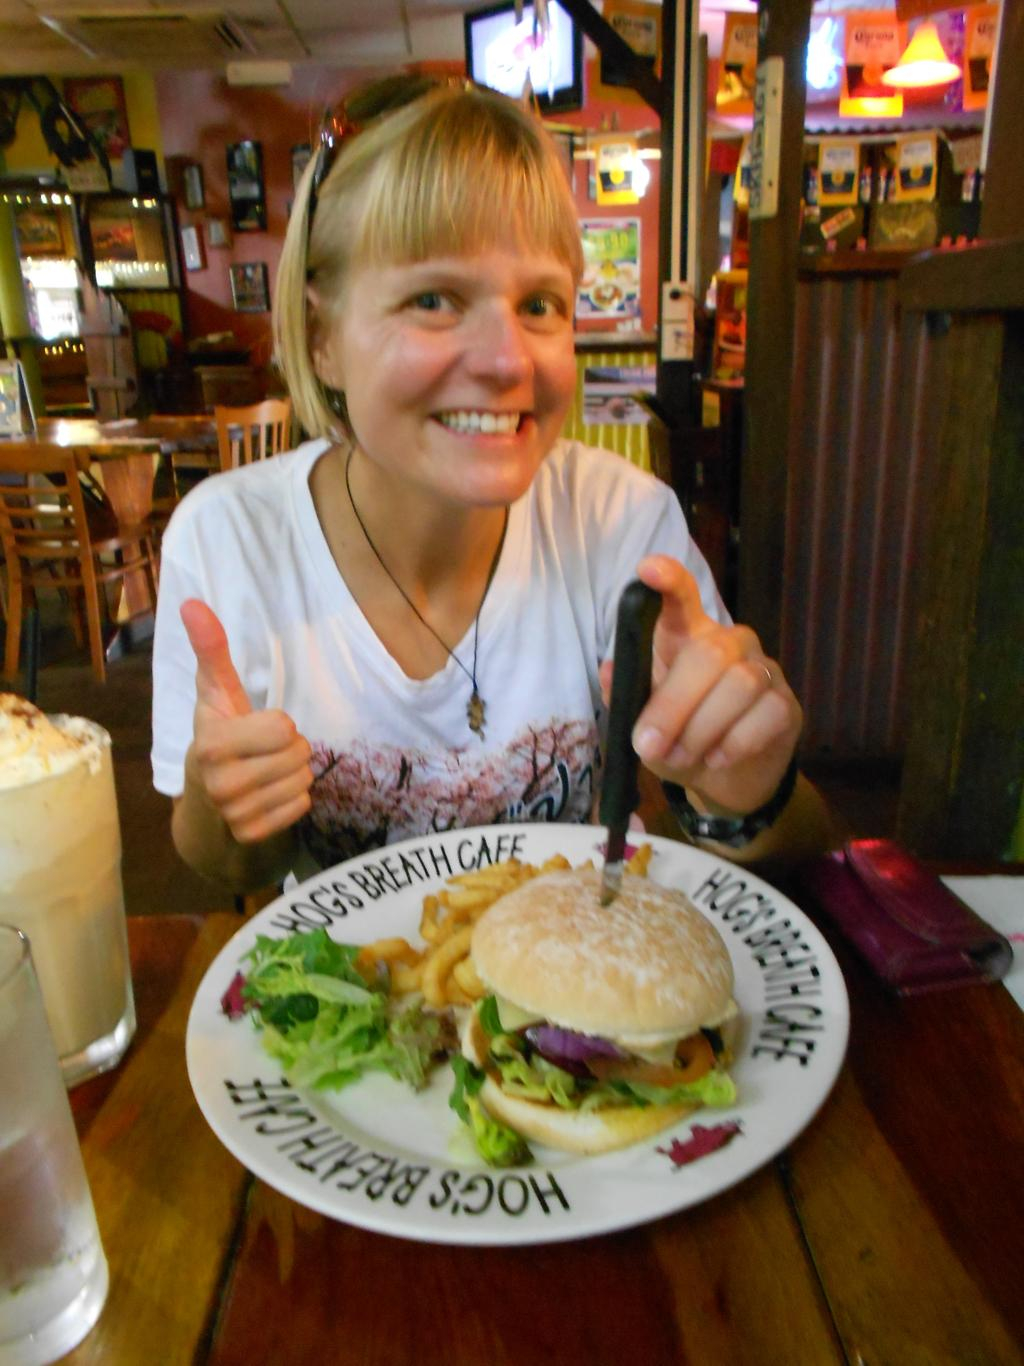face: (341, 155, 576, 499)
